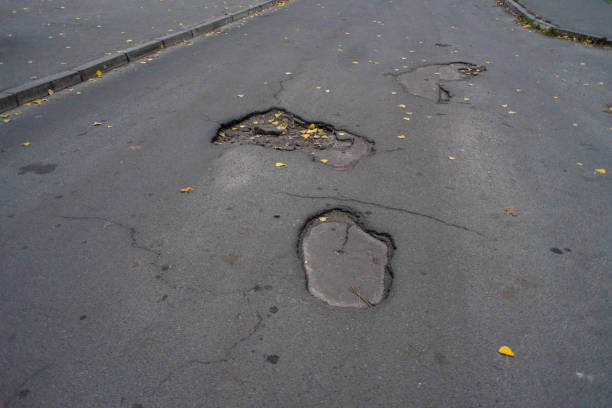potholes: (210, 100, 375, 174), (293, 203, 397, 311), (391, 59, 488, 107)
